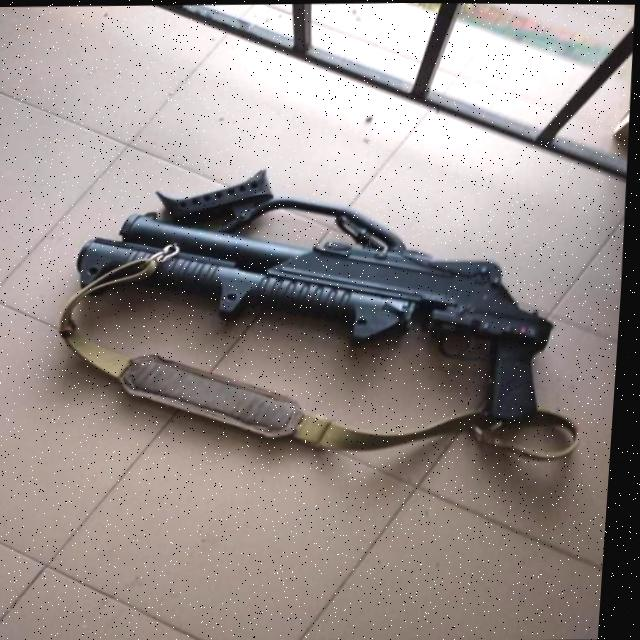firearm: (64, 200, 566, 431)
